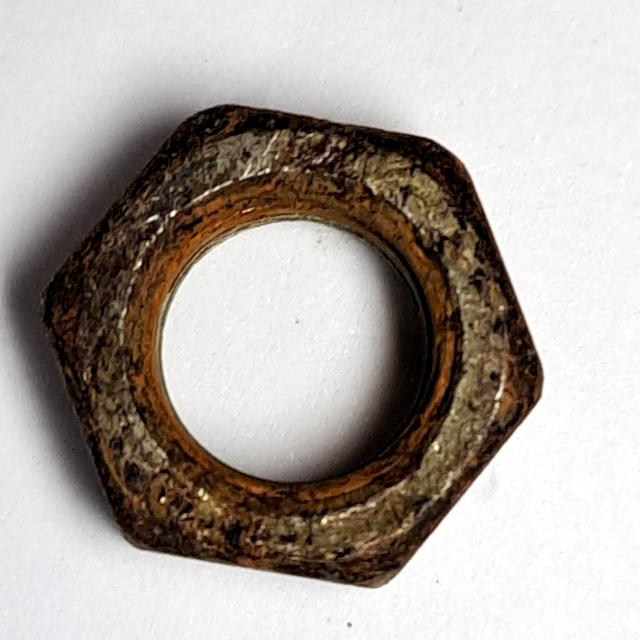Rust: (25, 89, 569, 606)
